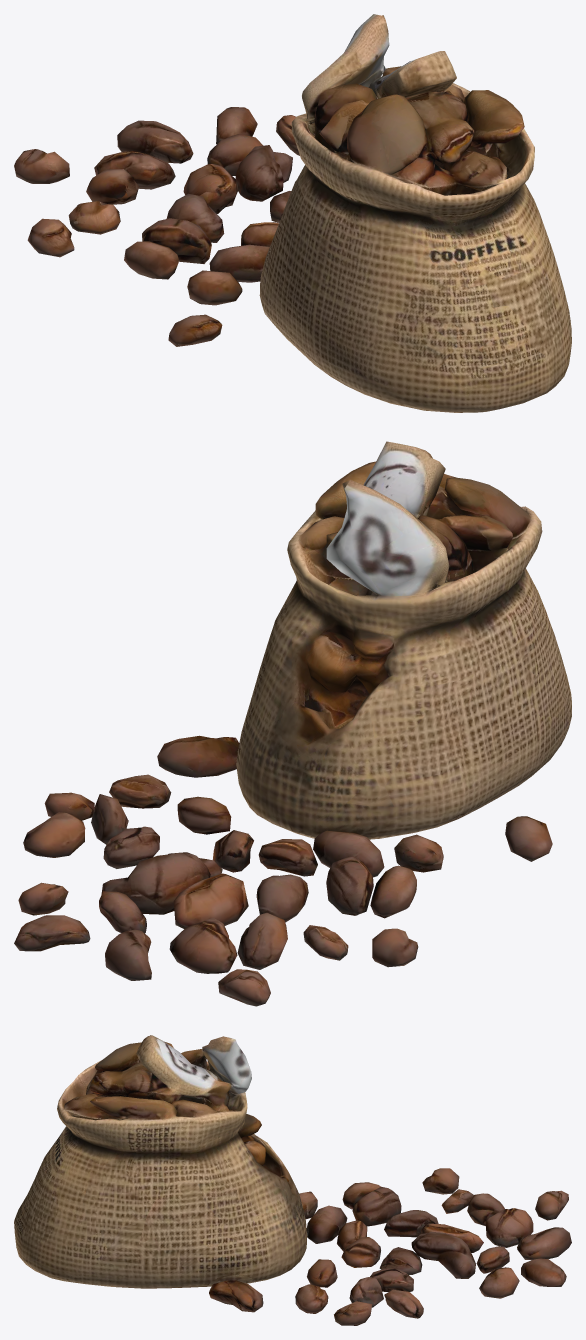
File: sack.glb
3 views of the same model, one above another, from view 1: azimuth 30°, elevation 25°; view 2: azimuth 150°, elevation 25°; view 3: azimuth 270°, elevation 25° (orthographic). The views are drawn at different scales.
Size of the model in its own units: 1.19 by 0.8505 by 1.94.
Materials: 1 (1 with a texture image).
